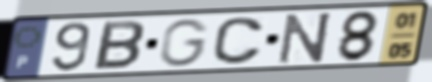8: (335, 9, 381, 64)
9: (50, 21, 93, 74)
B: (91, 19, 147, 72)
C: (210, 15, 266, 66)
G: (158, 17, 212, 68)
N: (276, 10, 335, 66)
